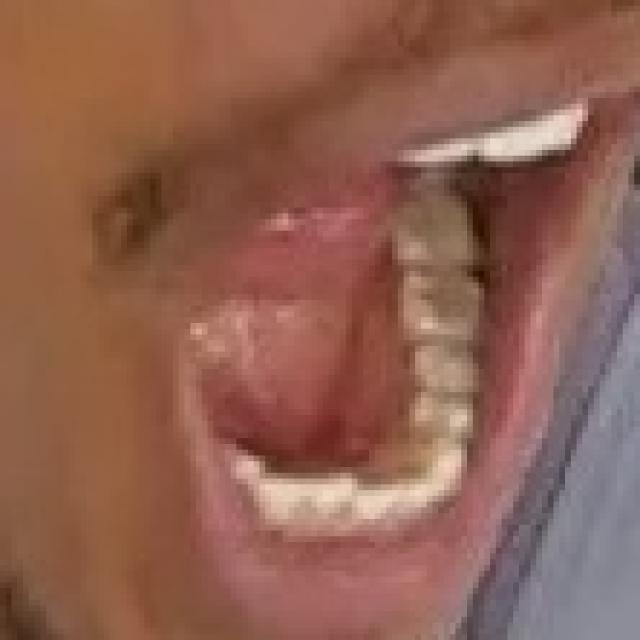open-mouth: (167, 74, 634, 560)
